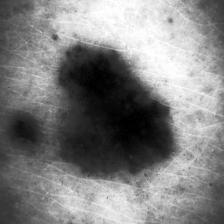Benign Marking or Mole: (59, 48, 172, 179), (8, 114, 42, 148)
